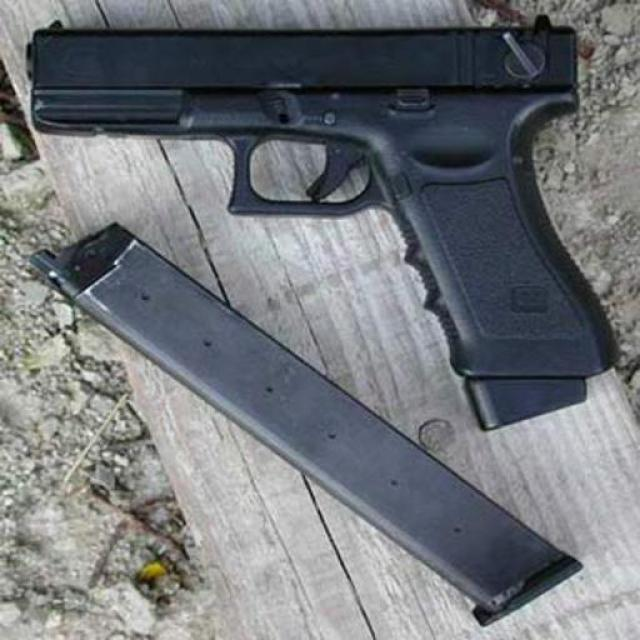pistol: (25, 18, 612, 429)
